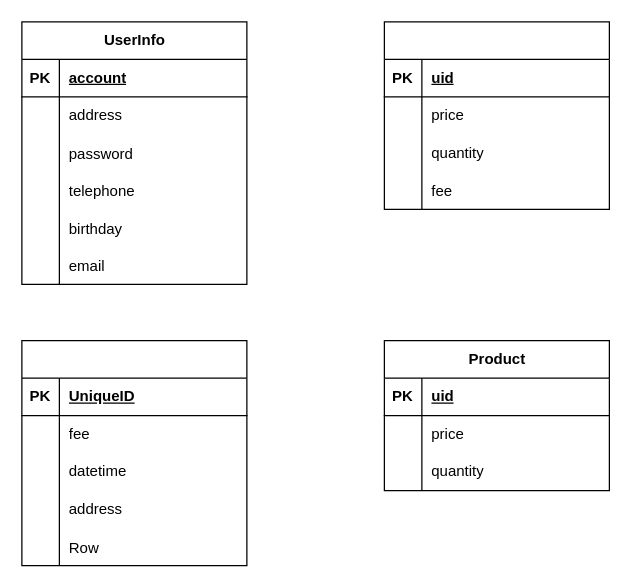
The diagram is 631 pixels wide and 588 high, and some of its shapes have lost their labels. Here are the shapes that lost their labels. From the top down, the box of each, then its label:
(383, 21, 609, 209): ShoppingCart
(21, 339, 247, 566): Bill
